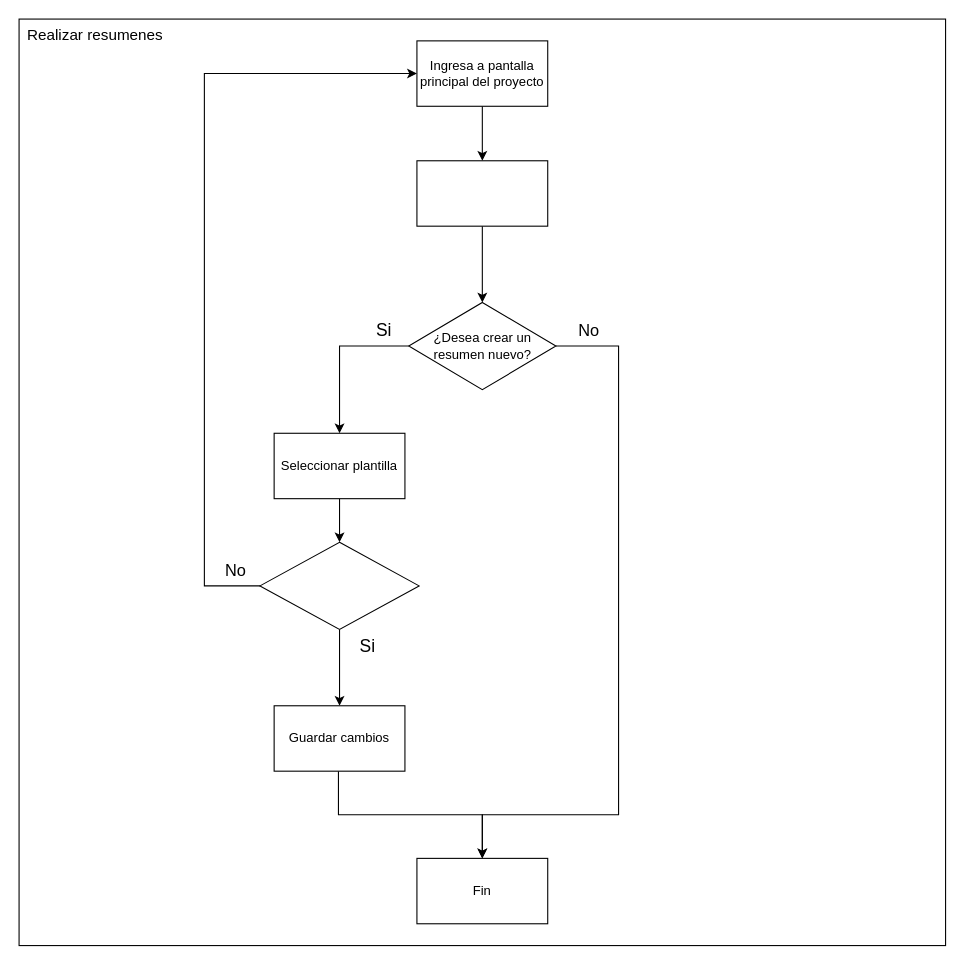
This 965x965 diagram has some shape labels left out. The centre of each missing label's shape, as x and y in pixels:
Ingresa a nuevo resumen: (x=482, y=193)
¿Desea guardar los cambios?: (x=339, y=585)
